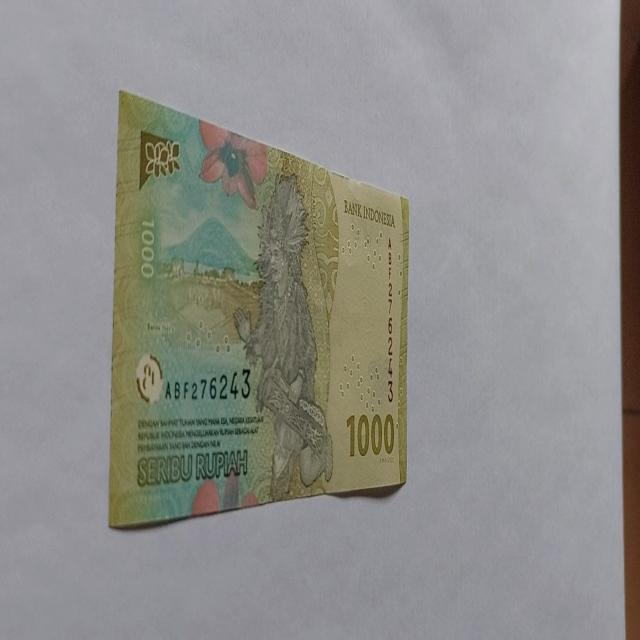seribu rupiah kertas: (107, 88, 410, 530)
